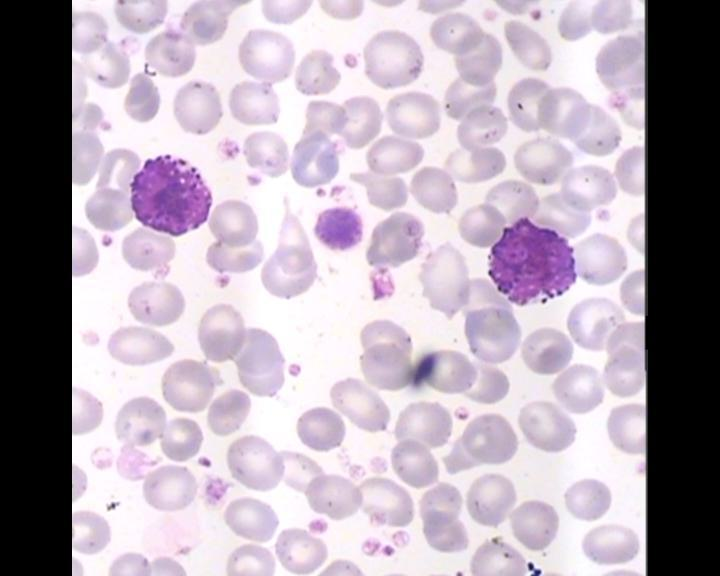baso: (480, 218, 581, 310), (124, 150, 219, 238)
